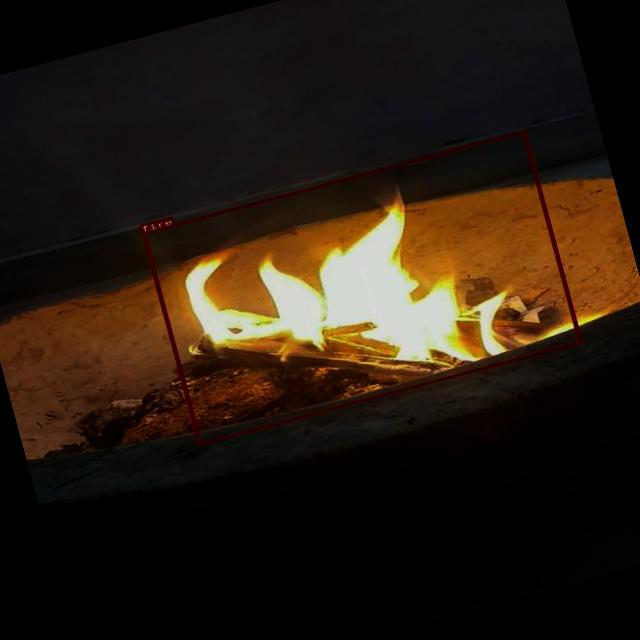fire: (140, 130, 582, 446)
